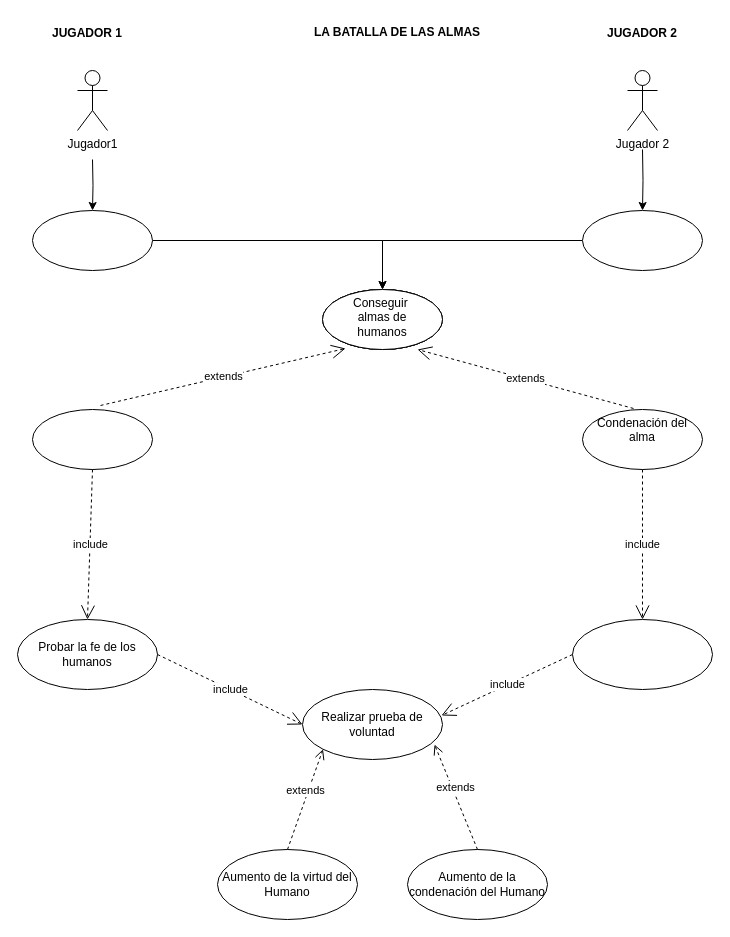
Image size: 730x937. Some labels were removed from this diagram. The box of each missing label's shape, as (x1, y1, x2, y2) in pixels:
Controla a los Demonios: (582, 210, 702, 270)
Controla a los Ángeles: (32, 210, 152, 270)
Santificación del alma: (32, 408, 152, 470)
Tentar o seducir a los humanos: (572, 618, 712, 690)
